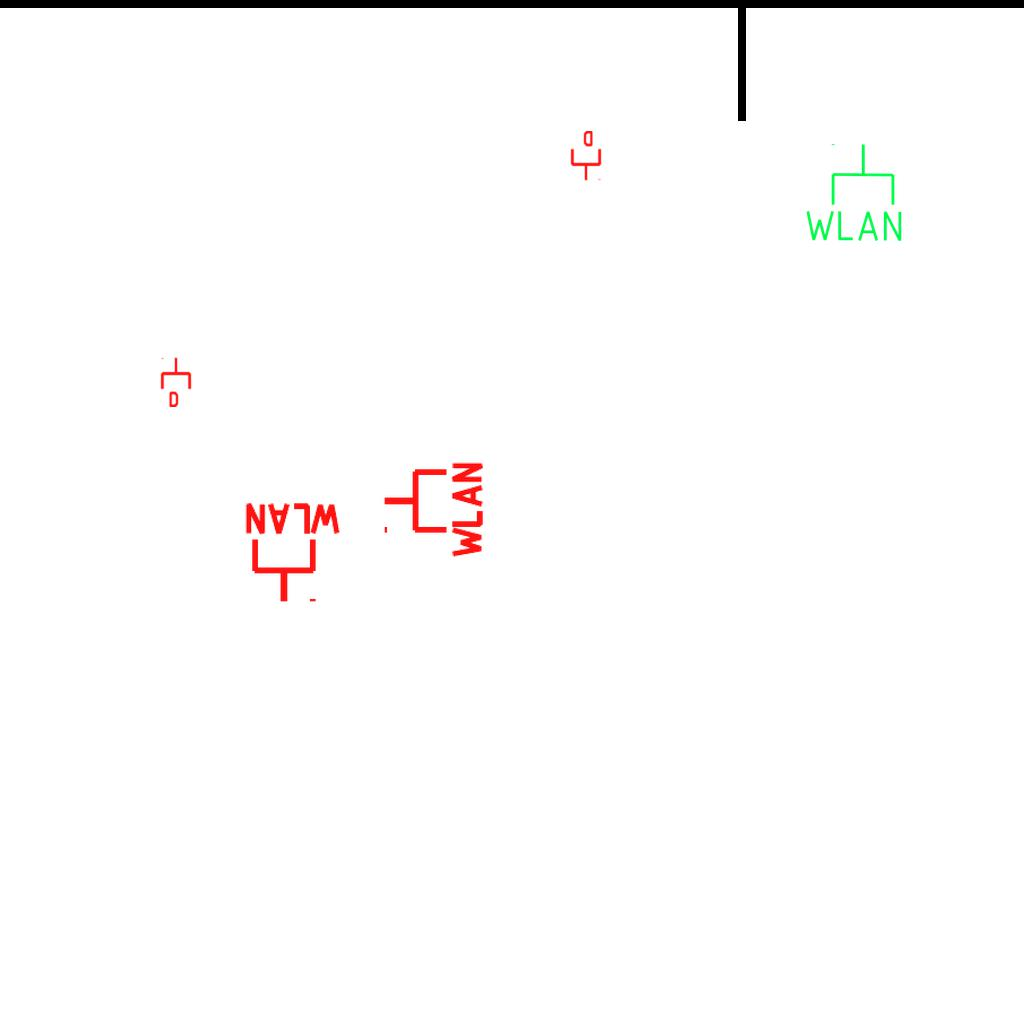Datenanschluss_einfach: (569, 131, 603, 181), (159, 357, 193, 407)
WLAN: (241, 501, 345, 606), (801, 141, 906, 245), (380, 458, 485, 562)
